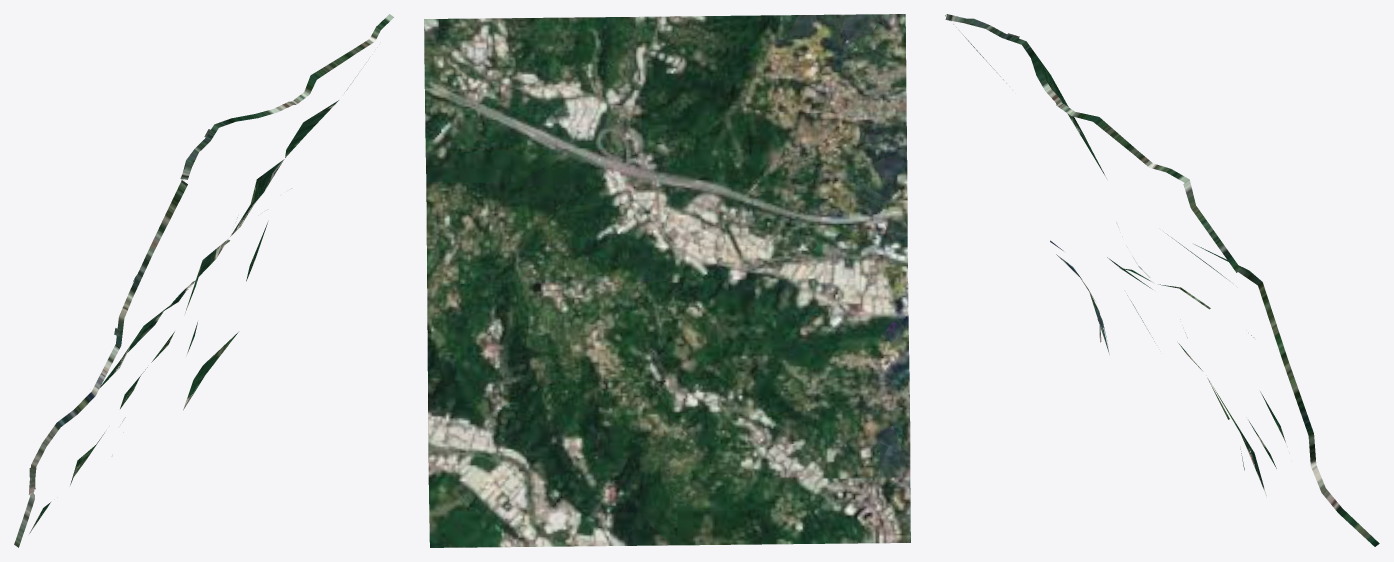
3 views of the same model, side by side, from view 1: azimuth 30°, elevation 25°; view 2: azimuth 150°, elevation 25°; view 3: azimuth 270°, elevation 25° (orthographic). The views are drawn at different scales.
Bounding box in the file's own units: 2403 × 2311 × 2115.
Materials: 1 (1 with a texture image).
